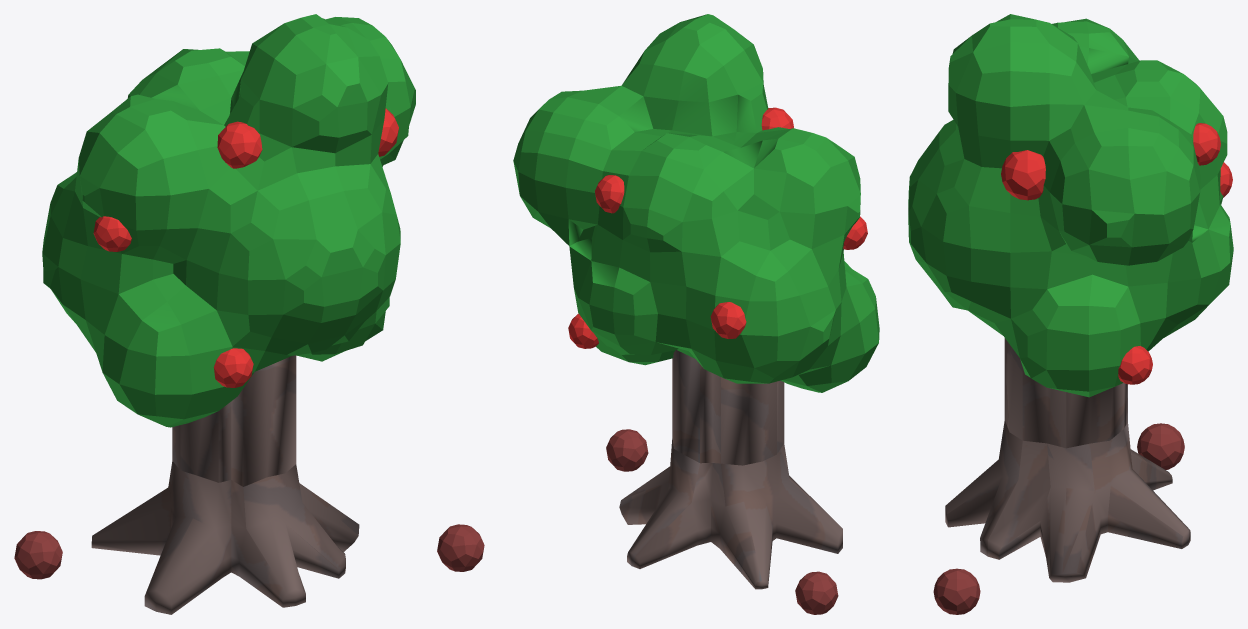
The model's file is apple_tree.glb.
3 views of the same model, side by side, from view 1: azimuth 30°, elevation 25°; view 2: azimuth 150°, elevation 25°; view 3: azimuth 270°, elevation 25° (orthographic). The views are drawn at different scales.
Parts seen in each view (by area): view 1: leaves, stump, trunk, Icosphere.008, Icosphere.007, Icosphere.006, Icosphere.005, Icosphere; view 2: leaves, stump, trunk, Icosphere.008, Icosphere.007, Icosphere.001, Icosphere.002, Icosphere.003, Icosphere.006, Icosphere; view 3: leaves, stump, trunk, Icosphere.004, Icosphere.007, Icosphere.008, Icosphere.003, Icosphere.002.
Boxes of the visible parts, box(x1,y1,x2,y2) form: leaves: box(42, 14, 415, 427); stump: box(91, 461, 359, 614); trunk: box(172, 355, 296, 486); Icosphere.008: box(14, 531, 62, 579); Icosphere.007: box(437, 524, 484, 571); Icosphere.006: box(217, 121, 262, 168); Icosphere.005: box(213, 348, 253, 387); Icosphere: box(93, 216, 131, 251); leaves: box(513, 14, 879, 392); stump: box(619, 438, 842, 589); trunk: box(672, 350, 784, 465); Icosphere.008: box(795, 571, 838, 614); Icosphere.007: box(606, 429, 648, 471); Icosphere.001: box(710, 302, 746, 338); Icosphere.002: box(595, 175, 624, 213); Icosphere.003: box(568, 313, 598, 348); Icosphere.006: box(761, 107, 793, 130); Icosphere: box(843, 216, 867, 249); leaves: box(908, 14, 1233, 397); stump: box(945, 420, 1190, 582); trunk: box(1004, 338, 1127, 448); Icosphere.004: box(1001, 150, 1045, 200); Icosphere.007: box(933, 568, 980, 614); Icosphere.008: box(1137, 423, 1184, 469); Icosphere.003: box(1118, 346, 1152, 384); Icosphere.002: box(1193, 123, 1220, 165).
Size of the model in its own units: 5.01 by 7.21 by 3.92.
Materials: 4 (1 with a texture image).
